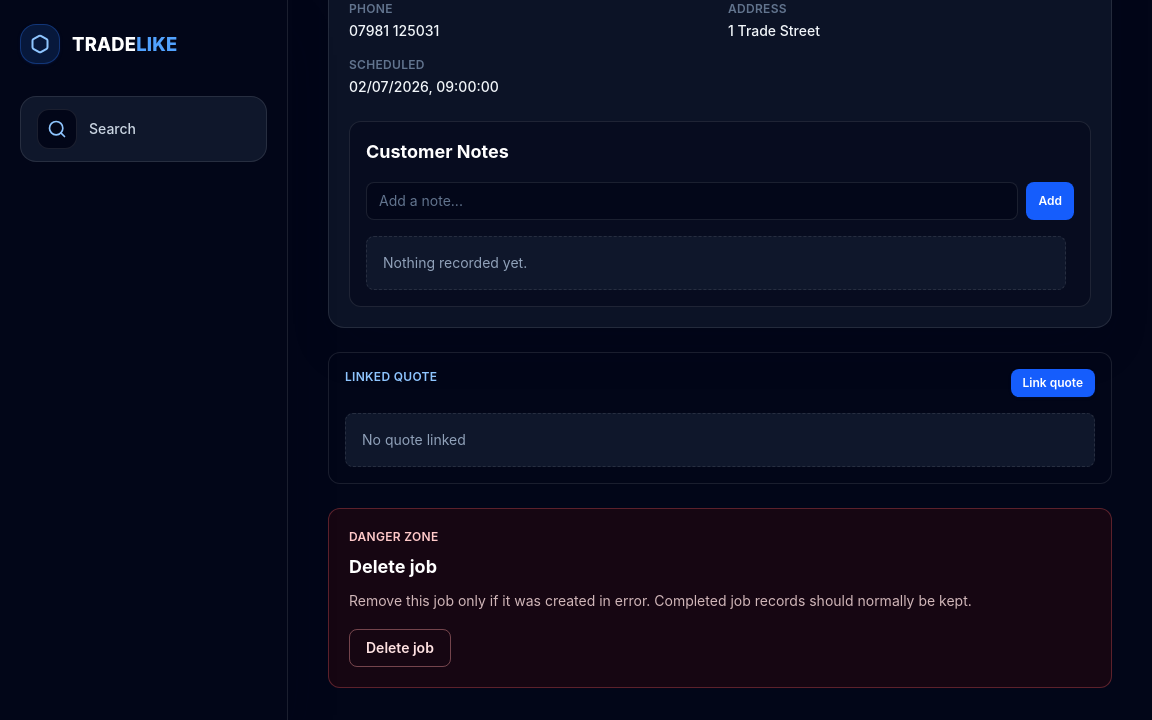
Test case: JobDetails delete › shows an error when delete fails
This screenshot has width=1152, height=720.
(page scrolled)
Click the button "Delete job". click: [400, 648]
box: left=349, top=629, right=451, bottom=667
(page scrolled)
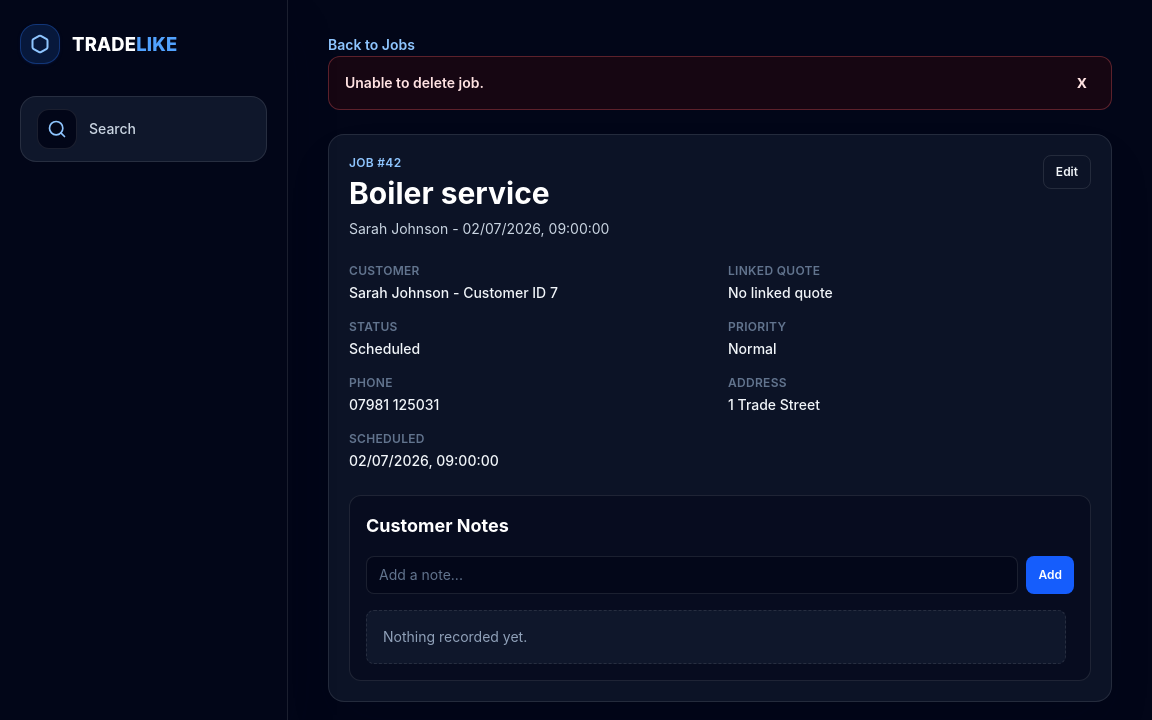
Result: the text "Unable to delete job." is shown at left=345, top=73, right=484, bottom=93
